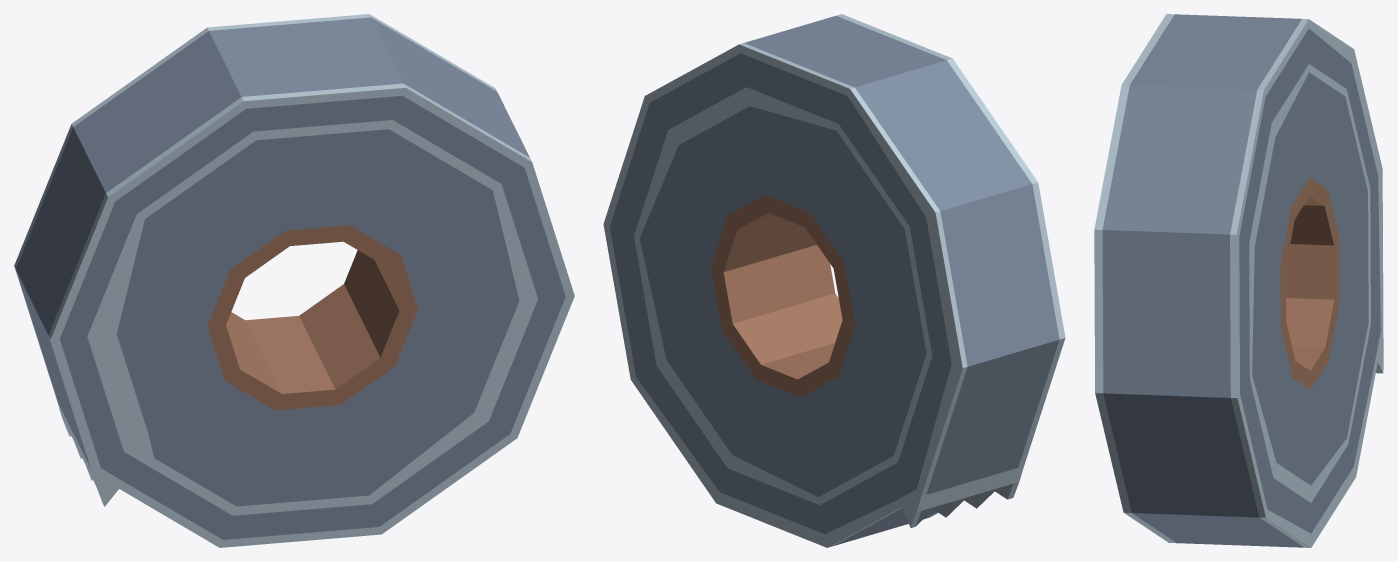
The model's file is DuckTape.fbx.
3 renders of one model, left to right at view 1: azimuth 30°, elevation 25°; view 2: azimuth 150°, elevation 25°; view 3: azimuth 270°, elevation 25°, orthographic. The views are drawn at different scales.
Parts seen in each view (by area): view 1: DuckTape; view 2: DuckTape; view 3: DuckTape.
Boxes of the visible parts, <box> form: DuckTape: <box>14,14,574,547</box>; DuckTape: <box>603,14,1065,547</box>; DuckTape: <box>1094,14,1383,547</box>.
Size of the model in its own units: 93.52 by 88.26 by 48.83.
